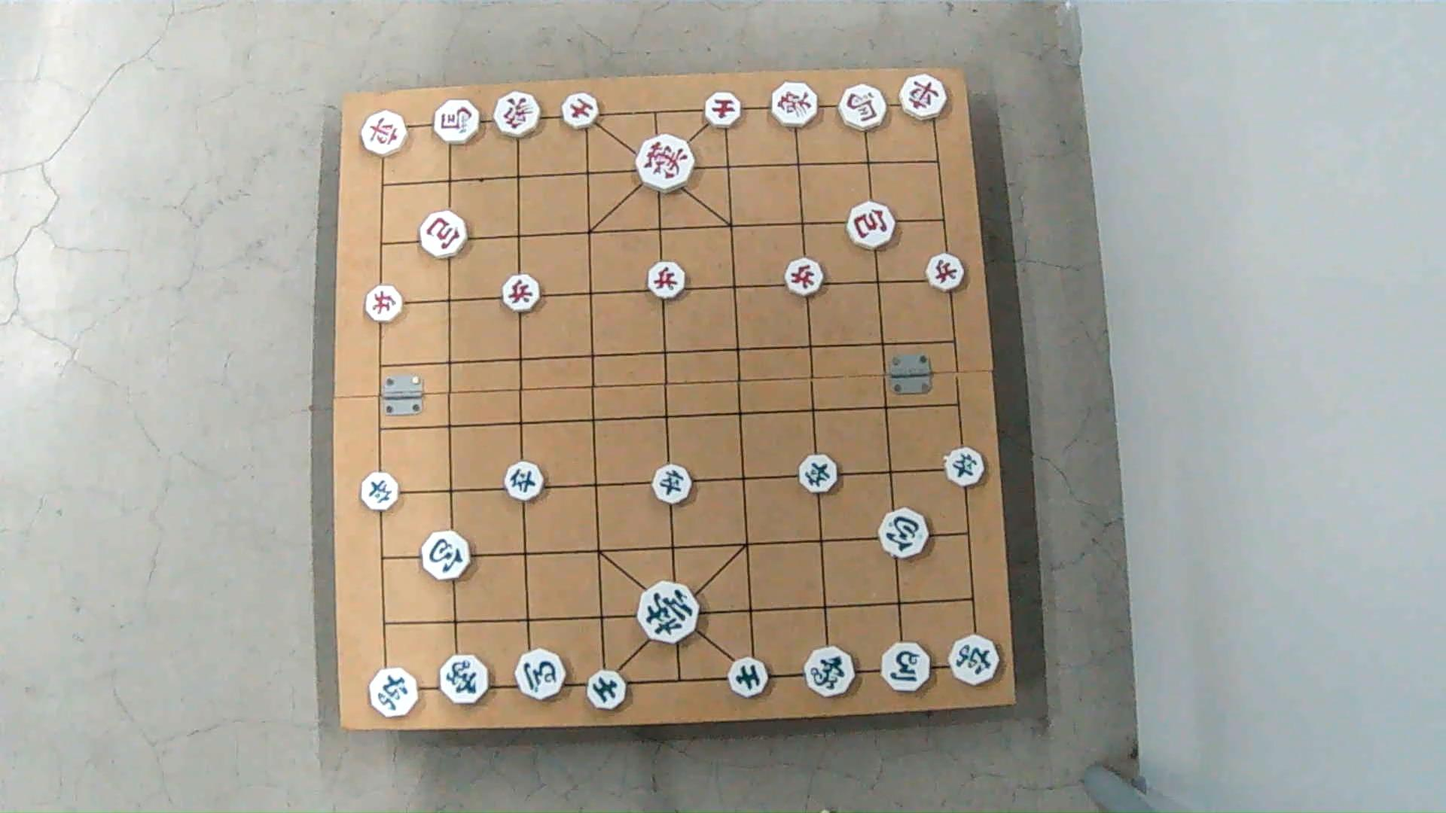cha_green: (950, 633, 1002, 689), (370, 668, 419, 716)
cha_red: (898, 76, 947, 118), (362, 111, 409, 153)
jol_green: (798, 454, 840, 492), (651, 467, 692, 505), (943, 449, 986, 485), (502, 464, 542, 502), (363, 475, 401, 511)
jol_red: (501, 273, 542, 309), (783, 260, 823, 296), (645, 262, 685, 298), (926, 255, 967, 290), (363, 286, 403, 321)
ma_green: (880, 644, 931, 692), (515, 650, 566, 697)
ma_red: (838, 85, 886, 129), (436, 101, 484, 141)
po_green: (420, 528, 472, 583), (879, 512, 929, 558)
po_red: (849, 202, 898, 248), (419, 212, 466, 255)
sa_green: (585, 668, 629, 709), (726, 659, 767, 697)
sa_red: (562, 94, 601, 128), (705, 94, 743, 126)
sang_green: (806, 646, 856, 699), (441, 653, 490, 704)
sang_red: (493, 91, 541, 139), (772, 83, 822, 126)
wang_green: (636, 584, 698, 641)
wang_red: (636, 136, 695, 189)
